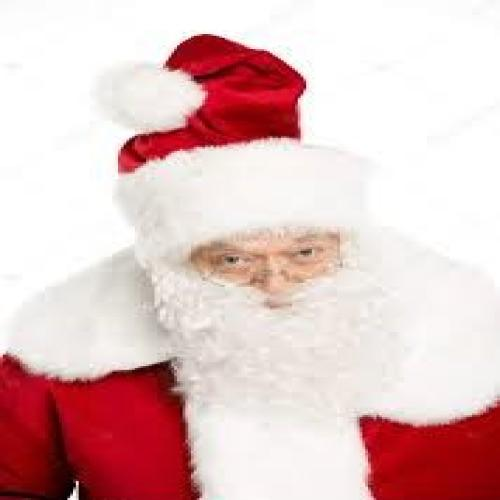Santa: (0, 31, 500, 500)
